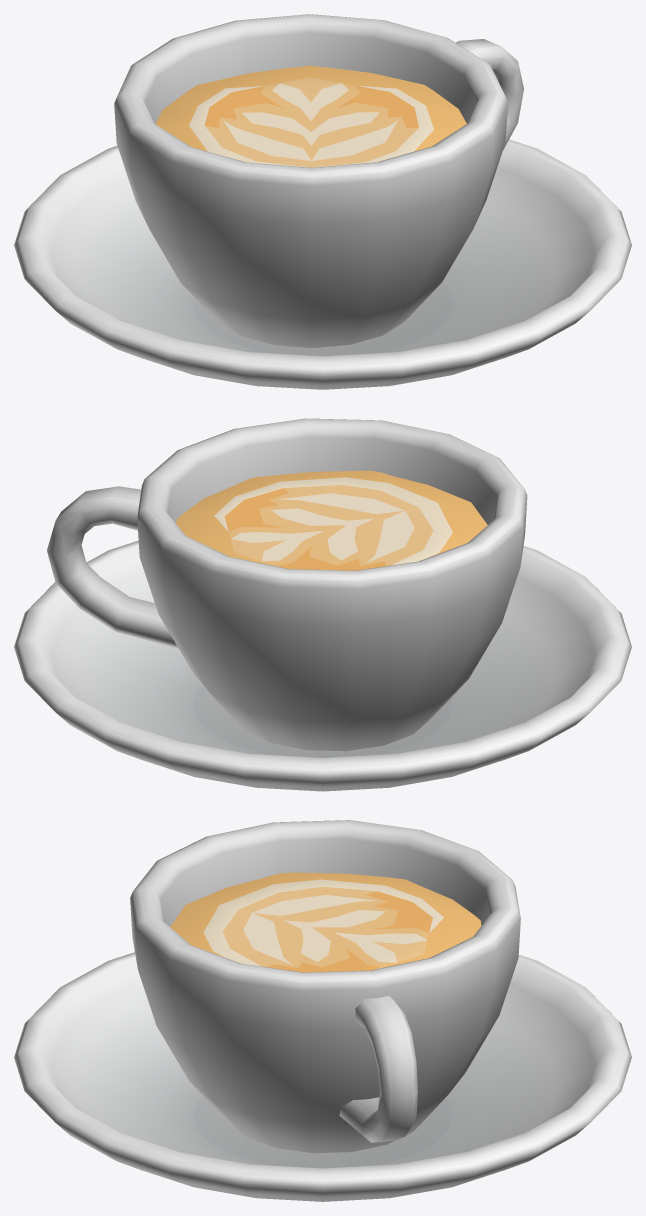
The model's file is coffee_007.fbx.
3 renders of one model, top to bottom at view 1: azimuth 30°, elevation 25°; view 2: azimuth 150°, elevation 25°; view 3: azimuth 270°, elevation 25°, orthographic.
Parts seen in each view (by area): view 1: coffee_007; view 2: coffee_007; view 3: coffee_007.
Boxes of the visible parts, x1,y1,x2,y2 form: coffee_007: [14, 14, 631, 389]; coffee_007: [14, 418, 631, 791]; coffee_007: [14, 820, 631, 1201].
Size of the model in its own units: 12.69 by 12.69 by 5.01.
